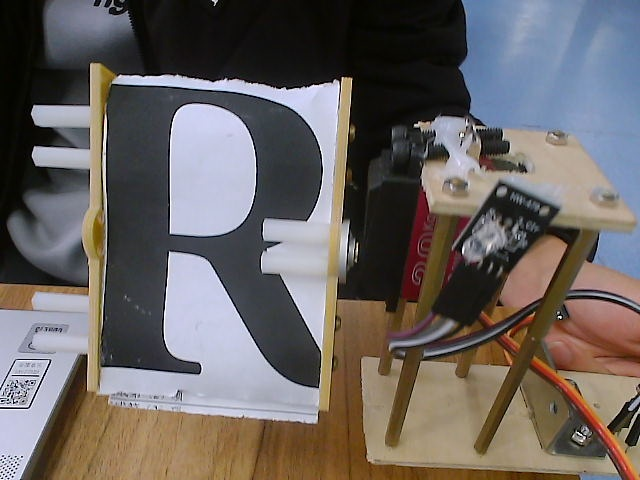R: (24, 48, 385, 441)
